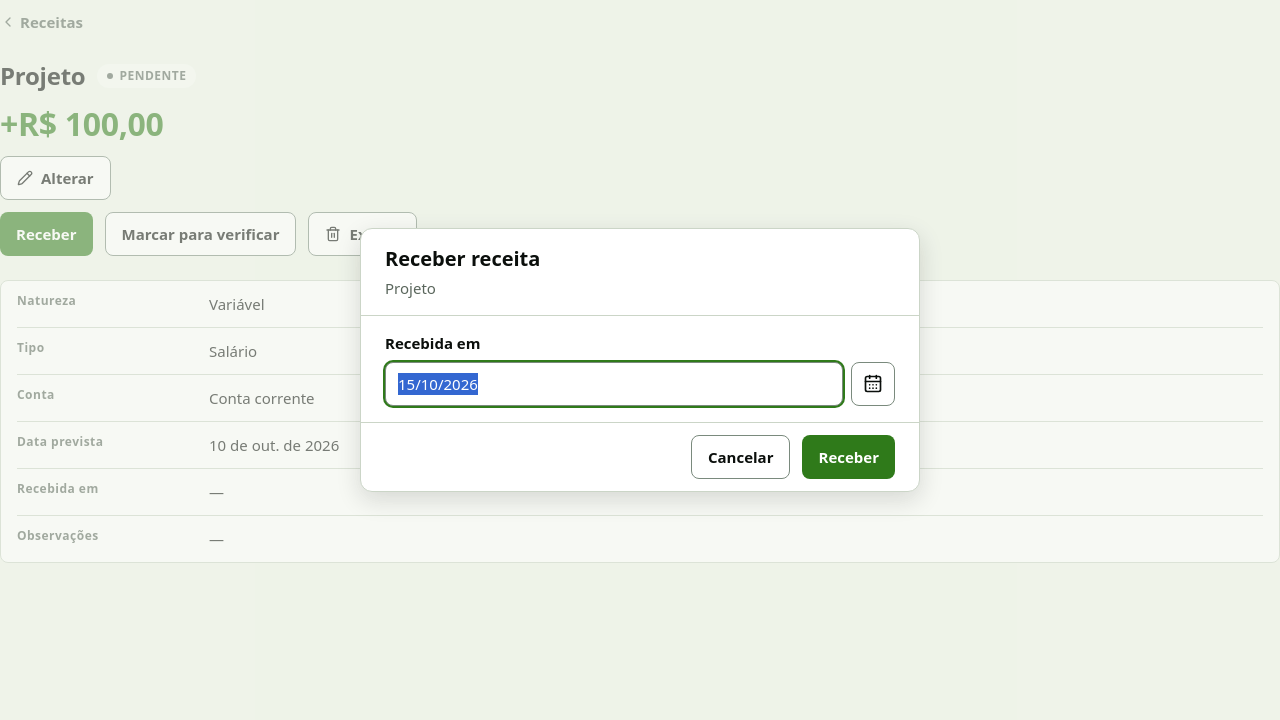
Scenario: EarningActions (spec 0014) › keeps the receive dialog open with the alert on any other error
The width and height of the screenshot is (1280, 720).
Expected: the heading "Projeto" is shown, [0, 60, 86, 92]
Click the button "Receber".
click(849, 457)  # box [802, 435, 895, 479]
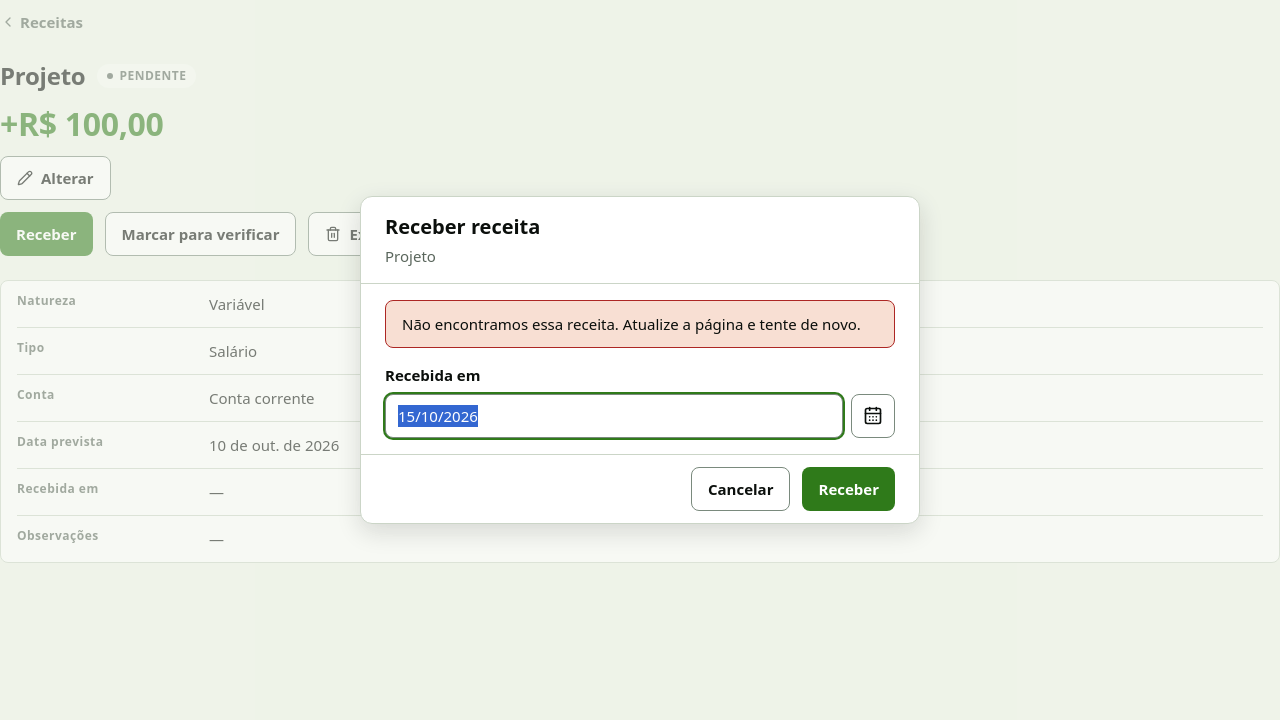
Expected: the message shows "Não encontramos essa receita.", [402, 314, 861, 334]
